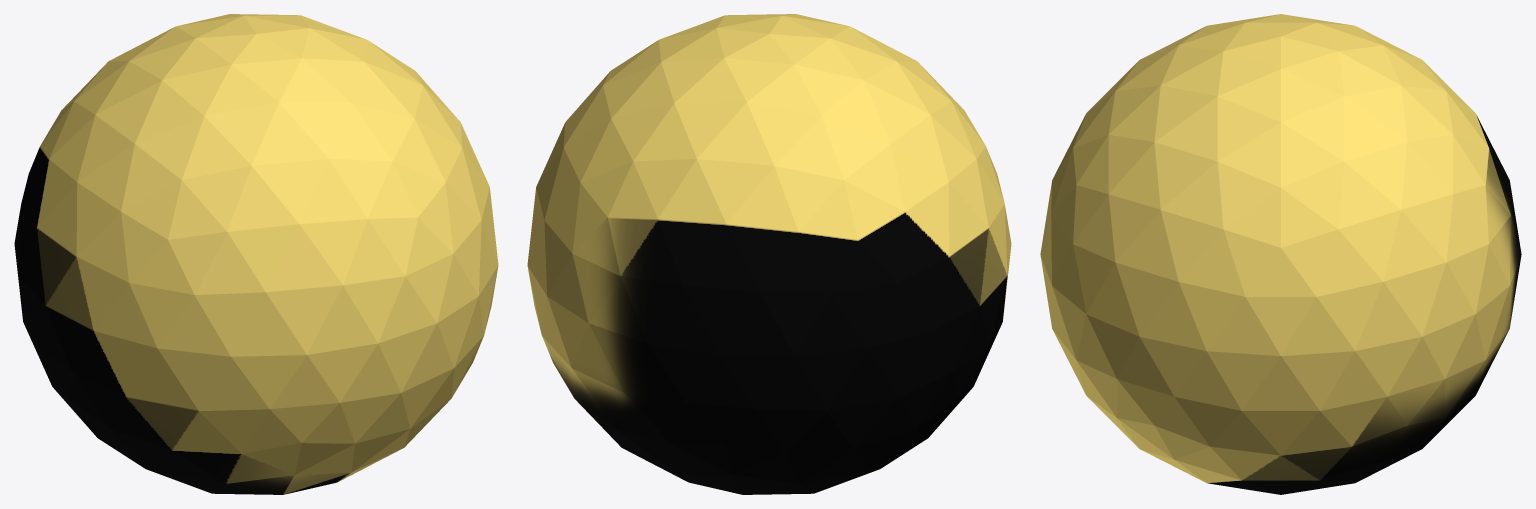
File: kekwsandworm.glb
3 renders of one model, left to right at view 1: azimuth 30°, elevation 25°; view 2: azimuth 150°, elevation 25°; view 3: azimuth 270°, elevation 25°, orthographic.
Parts seen in each view (by area): view 1: Icosphere; view 2: Icosphere; view 3: Icosphere.
Part boxes in pixels (x1=…): Icosphere: x1=14, y1=14, x2=498, y2=494; Icosphere: x1=527, y1=14, x2=1011, y2=494; Icosphere: x1=1040, y1=14, x2=1521, y2=494.
Size of the model in its own units: 2 by 2 by 2.
Materials: 1 (1 with a texture image).
